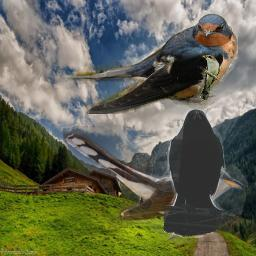Crow: (164, 109, 226, 238)
Cuckoo: (63, 126, 248, 244), (200, 55, 220, 100)
Swallow: (55, 12, 238, 114)
